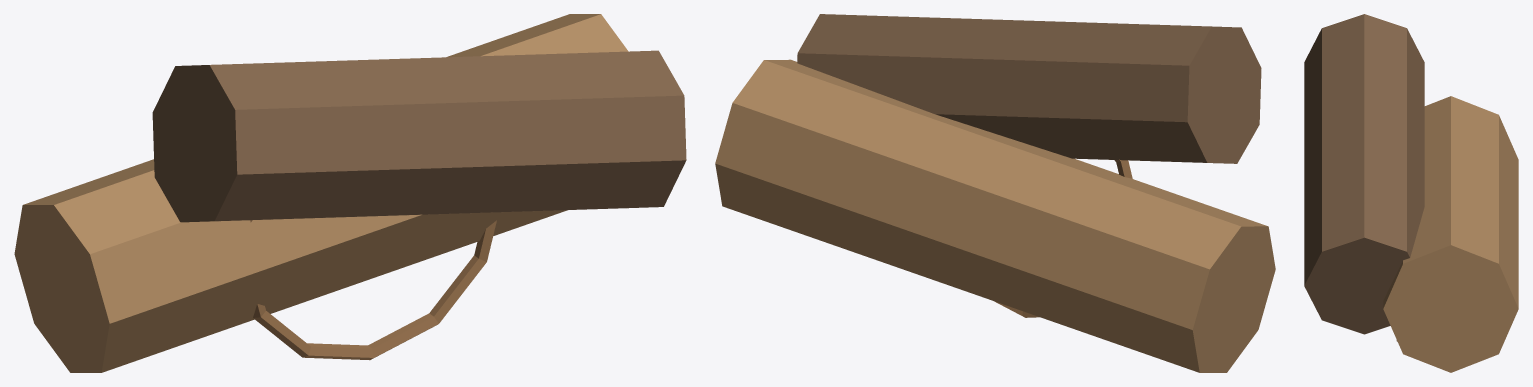
Rendered from wood_log_bundle.glb.
3 views of the same model, side by side, from view 1: azimuth 30°, elevation 25°; view 2: azimuth 150°, elevation 25°; view 3: azimuth 270°, elevation 25° (orthographic). The views are drawn at different scales.
Parts seen in each view (by area): view 1: log_b, log_a, binding; view 2: log_a, log_b; view 3: log_b, log_a.
Part boxes in pixels (bbox=[...]): log_b: bbox=[152, 50, 686, 222]; log_a: bbox=[14, 14, 628, 372]; binding: bbox=[250, 220, 496, 360]; log_a: bbox=[715, 59, 1275, 372]; log_b: bbox=[797, 14, 1261, 163]; log_b: bbox=[1304, 14, 1424, 334]; log_a: bbox=[1383, 96, 1518, 372].
Bounding box in the file's own units: 1.23 × 0.7511 × 0.57.
